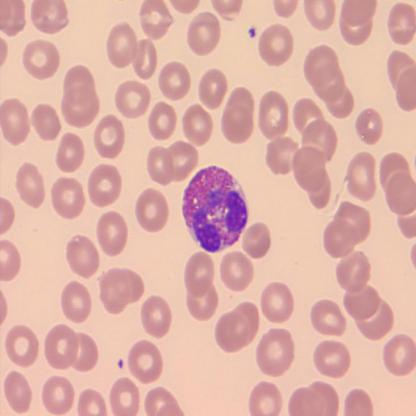Eosinophil: (182, 166, 250, 252)
